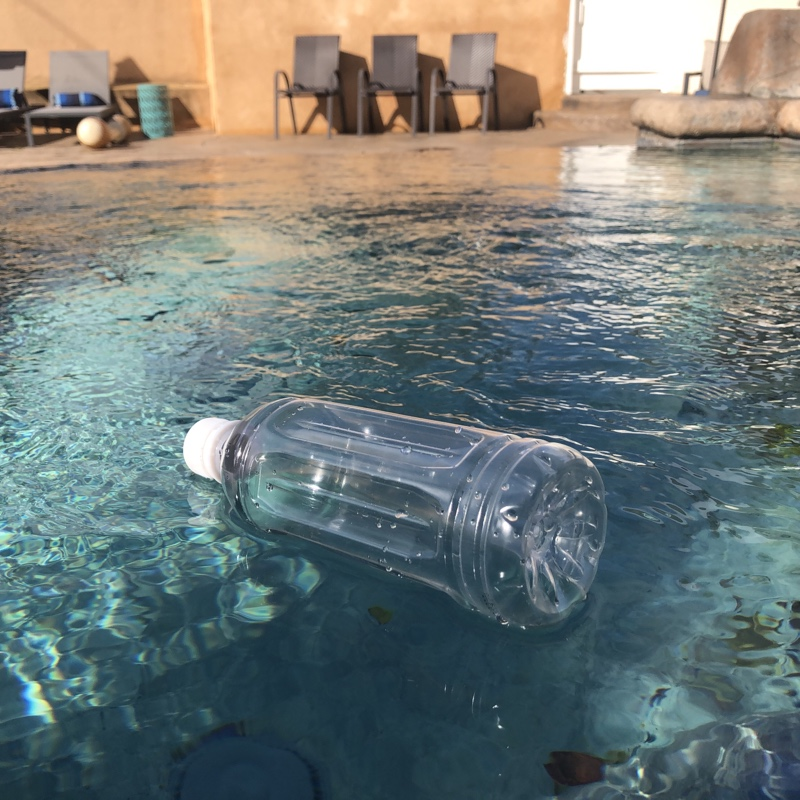Plastic Bottle: (180, 391, 610, 638)
